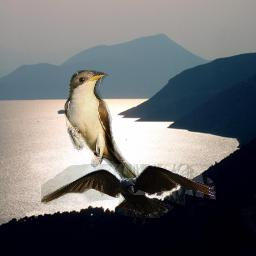Crow: (41, 164, 216, 225)
Cuckoo: (64, 70, 151, 195)
